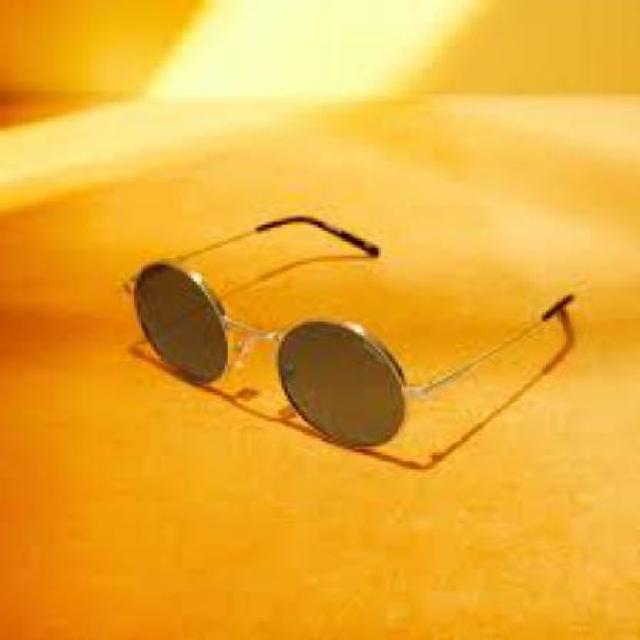gozluk: (116, 250, 410, 467)
